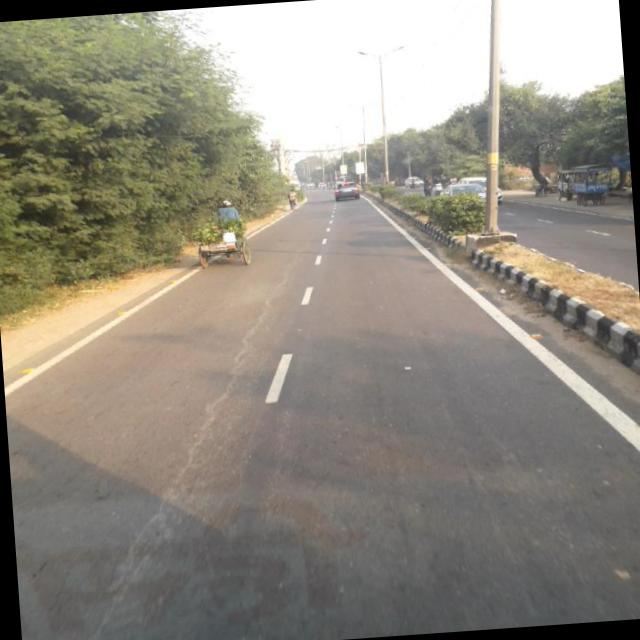pothole: (79, 260, 320, 629)
